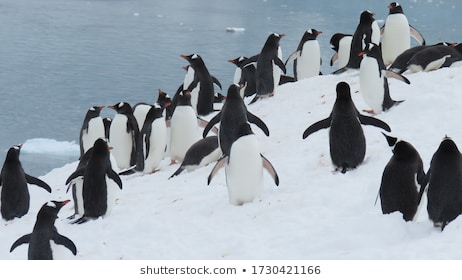penguin: (298, 76, 396, 174), (9, 198, 83, 259), (1, 141, 54, 209)
